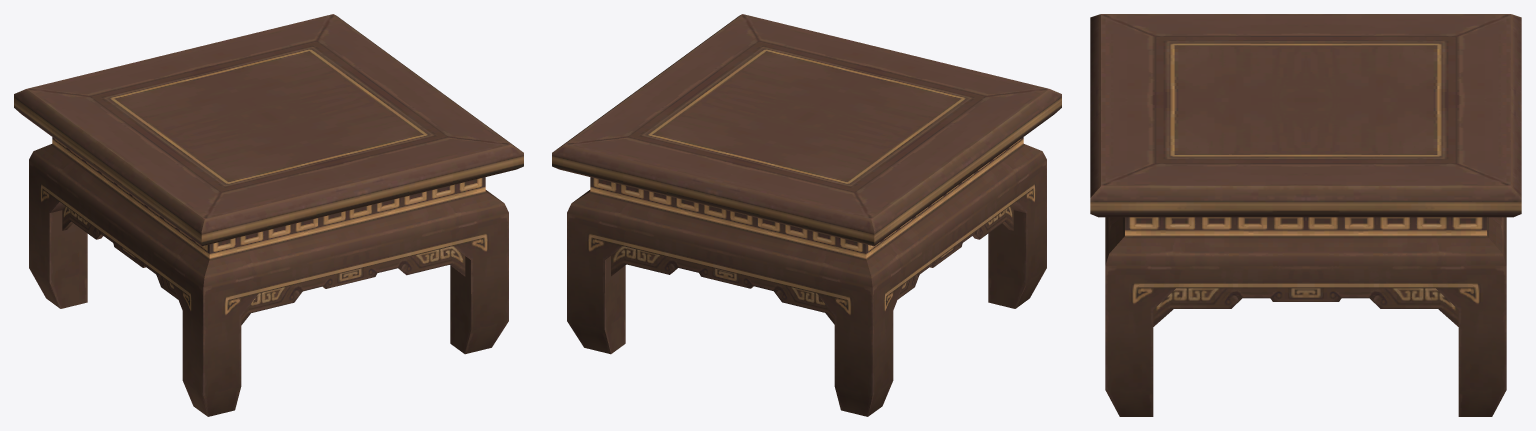
Rendered from Homeworld_Interior_Ly_Table_Table_21_Vo.fbx.
3 views of the same model, side by side, from view 1: azimuth 30°, elevation 25°; view 2: azimuth 150°, elevation 25°; view 3: azimuth 270°, elevation 25° (orthographic). The views are drawn at different scales.
Parts seen in each view (by area): view 1: Indoor_Ly_Prop_Table_04_Vo; view 2: Indoor_Ly_Prop_Table_04_Vo; view 3: Indoor_Ly_Prop_Table_04_Vo.
Boxes of the visible parts, <box> form: Indoor_Ly_Prop_Table_04_Vo: <box>14,14,523,416</box>; Indoor_Ly_Prop_Table_04_Vo: <box>552,14,1061,416</box>; Indoor_Ly_Prop_Table_04_Vo: <box>1090,14,1521,416</box>.
Size of the model in its own units: 1.26 by 0.7728 by 1.27.
